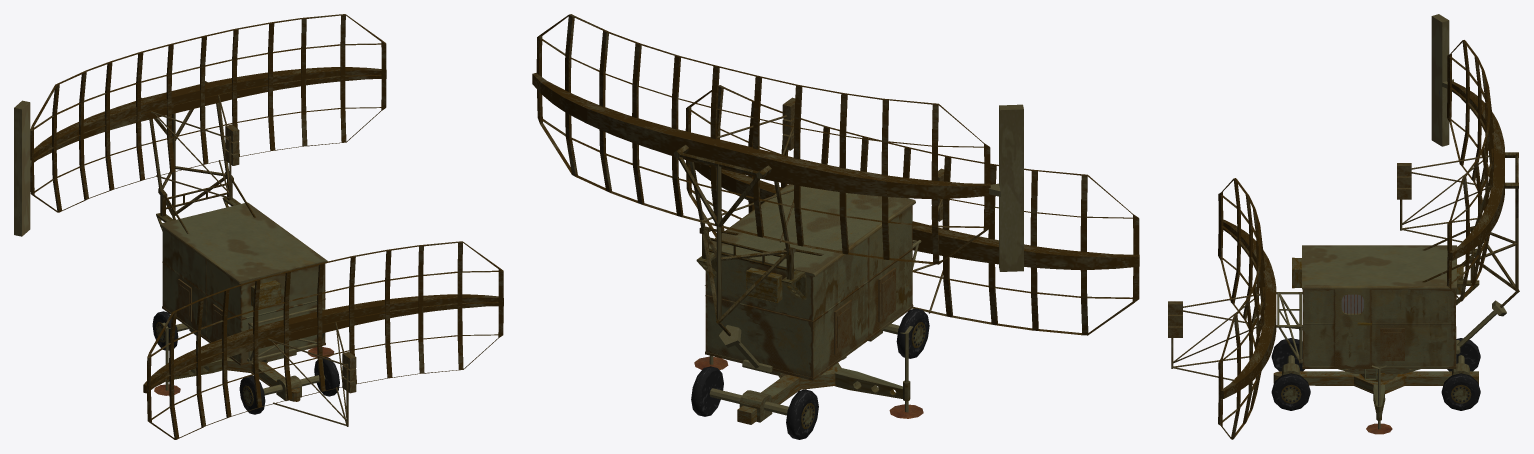
Rendered from RLS-P35.fbx.
3 renders of one model, left to right at view 1: azimuth 30°, elevation 25°; view 2: azimuth 150°, elevation 25°; view 3: azimuth 270°, elevation 25°, orthographic. The views are drawn at different scales.
Visible parts, largest first — view 1: antenna.001, antenna, main, detail4, detail4.001, detail3, detail3.001, detail6, foundation2, detail1, wheel1.002, conditioner.002 (+4 smaller); view 2: main, antenna, antenna.001, detail4, detail4.001, detail1, foundation2, supprot1.001, wheel1.001, wheel1, wheel1.002, detail2 (+6 smaller); view 3: main, antenna.001, antenna, detail4, foundation2, detail3, detail3.001, detail4.001, wheel1.003, wheel1, detail8, detail1 (+6 smaller).
Boxes of the visible parts, x1,y1,x2,y2 form: antenna.001: [143, 241, 503, 439]; antenna: [30, 14, 386, 212]; main: [160, 202, 327, 365]; detail4: [14, 100, 31, 236]; detail4.001: [141, 81, 229, 219]; detail3: [151, 95, 239, 199]; detail3.001: [268, 322, 356, 426]; detail6: [158, 172, 255, 233]; foundation2: [227, 357, 300, 401]; detail1: [178, 279, 222, 340]; wheel1.002: [239, 375, 265, 414]; conditioner.002: [251, 280, 281, 308]; main: [705, 184, 915, 380]; antenna: [532, 14, 990, 264]; antenna.001: [685, 85, 1139, 335]; detail4: [989, 104, 1023, 271]; detail4.001: [673, 145, 790, 336]; detail1: [834, 267, 896, 354]; foundation2: [737, 363, 841, 424]; supprot1.001: [834, 368, 910, 401]; wheel1.001: [786, 389, 818, 439]; wheel1: [691, 366, 723, 416]; wheel1.002: [896, 308, 929, 358]; detail2: [709, 388, 788, 422]; main: [1302, 245, 1456, 368]; antenna.001: [1218, 178, 1276, 439]; antenna: [1447, 40, 1504, 301]; detail4: [1431, 14, 1453, 146]; foundation2: [1273, 371, 1478, 393]; detail3: [1397, 155, 1490, 246]; detail3.001: [1168, 293, 1261, 384]; detail4.001: [1474, 152, 1519, 307]; wheel1.003: [1271, 373, 1310, 410]; wheel1: [1441, 373, 1480, 410]; detail8: [1276, 292, 1302, 363]; detail1: [1380, 328, 1404, 360].
Size of the model in its own units: 1280 by 935 by 1052.
Materials: 37 (37 with a texture image).
